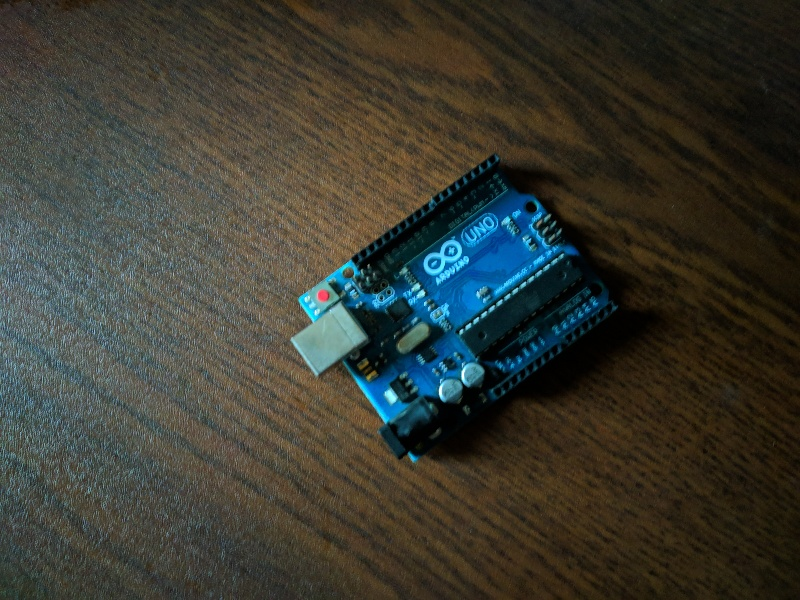Arduino UNO: (276, 146, 623, 472)
